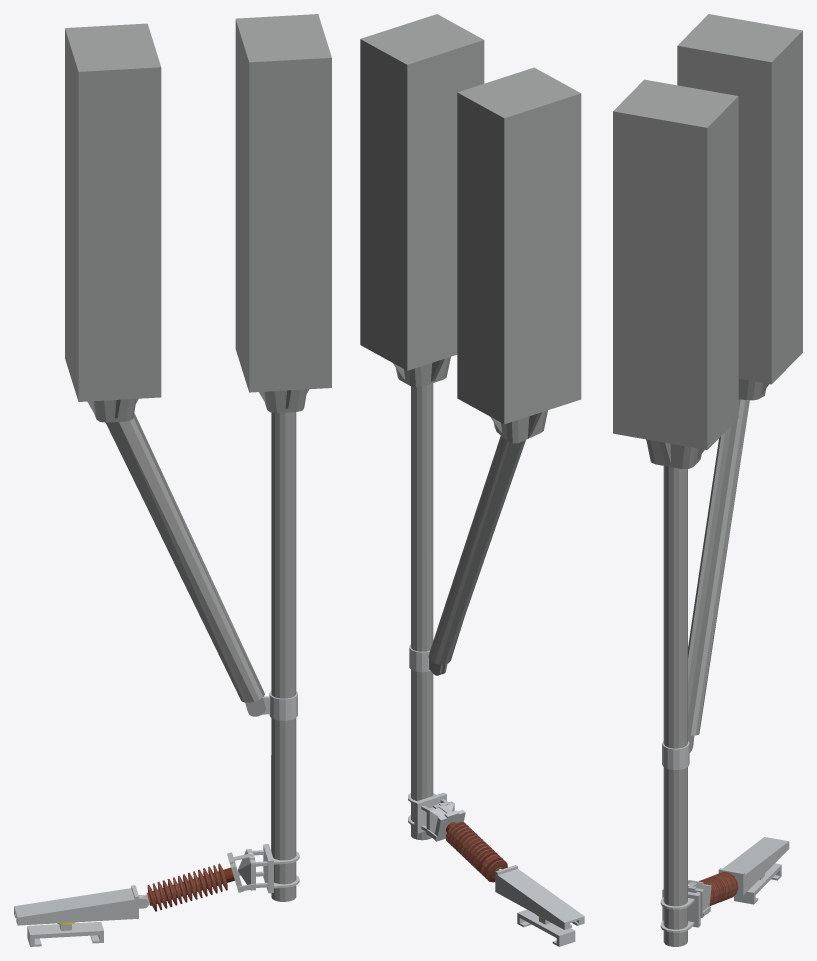
The model's file is catenary_rigid_end_h_r.obj.
3 views of the same model, side by side, from view 1: azimuth 30°, elevation 25°; view 2: azimuth 150°, elevation 25°; view 3: azimuth 270°, elevation 25° (orthographic). The views are drawn at different scales.
Parts seen in each view (by area): view 1: 1.001; view 2: 1.001; view 3: 1.001.
Boxes of the visible parts, x1=… form: 1.001: x1=14, y1=14, x2=331, y2=946; 1.001: x1=360, y1=14, x2=584, y2=946; 1.001: x1=613, y1=14, x2=802, y2=946.
Bounding box in the file's own units: 0.8927 × 2.8 × 0.5537.
1 material, 1 textured.
